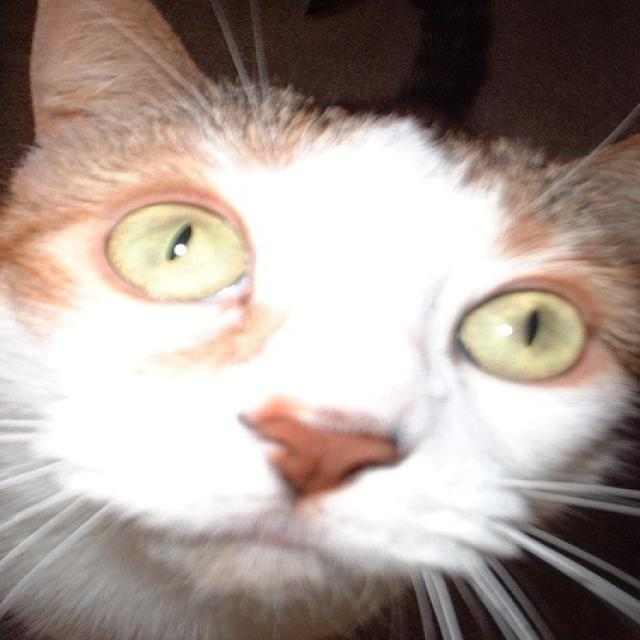cat: (4, 2, 638, 638)
